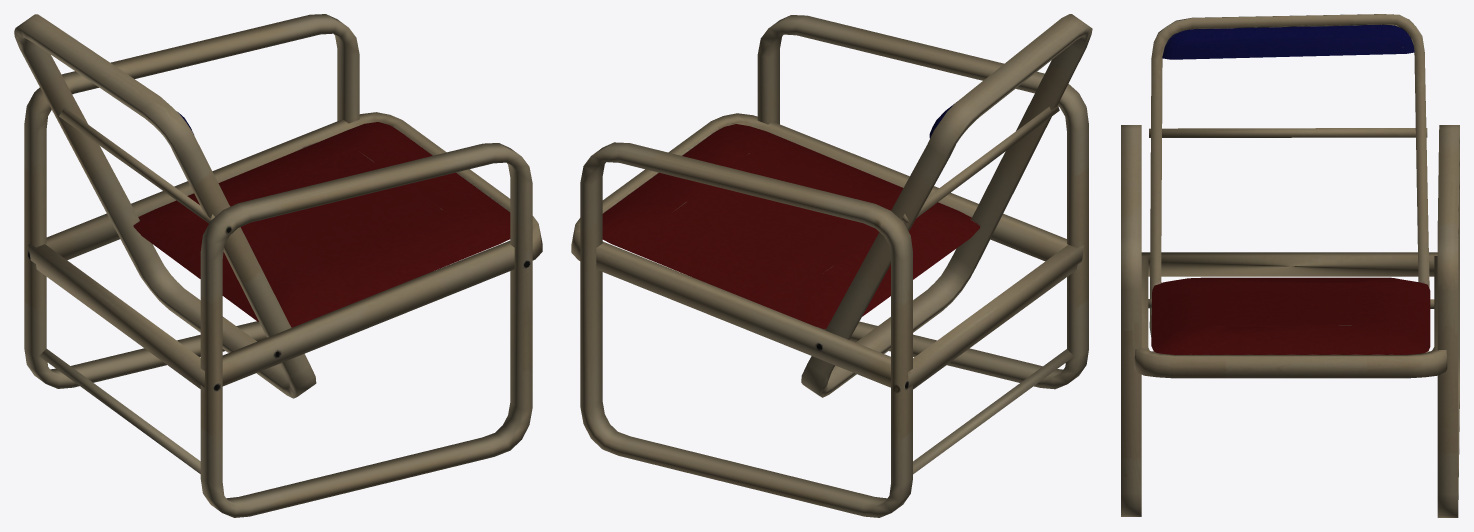
3 views of the same model, side by side, from view 1: azimuth 30°, elevation 25°; view 2: azimuth 150°, elevation 25°; view 3: azimuth 270°, elevation 25° (orthographic). The views are drawn at different scales.
Parts seen in each view (by area): view 1: tripo_node_fd19e45b-cc41-45fc-be5e-8b481b5a5a2f; view 2: tripo_node_fd19e45b-cc41-45fc-be5e-8b481b5a5a2f; view 3: tripo_node_fd19e45b-cc41-45fc-be5e-8b481b5a5a2f.
Part boxes in pixels (x1,y1,x2,y2): tripo_node_fd19e45b-cc41-45fc-be5e-8b481b5a5a2f: (14,14,542,517); tripo_node_fd19e45b-cc41-45fc-be5e-8b481b5a5a2f: (571,14,1092,517); tripo_node_fd19e45b-cc41-45fc-be5e-8b481b5a5a2f: (1121,14,1459,517).
Size of the model in its own units: 0.998 by 0.9863 by 0.8301.
Materials: 1 (1 with a texture image).
